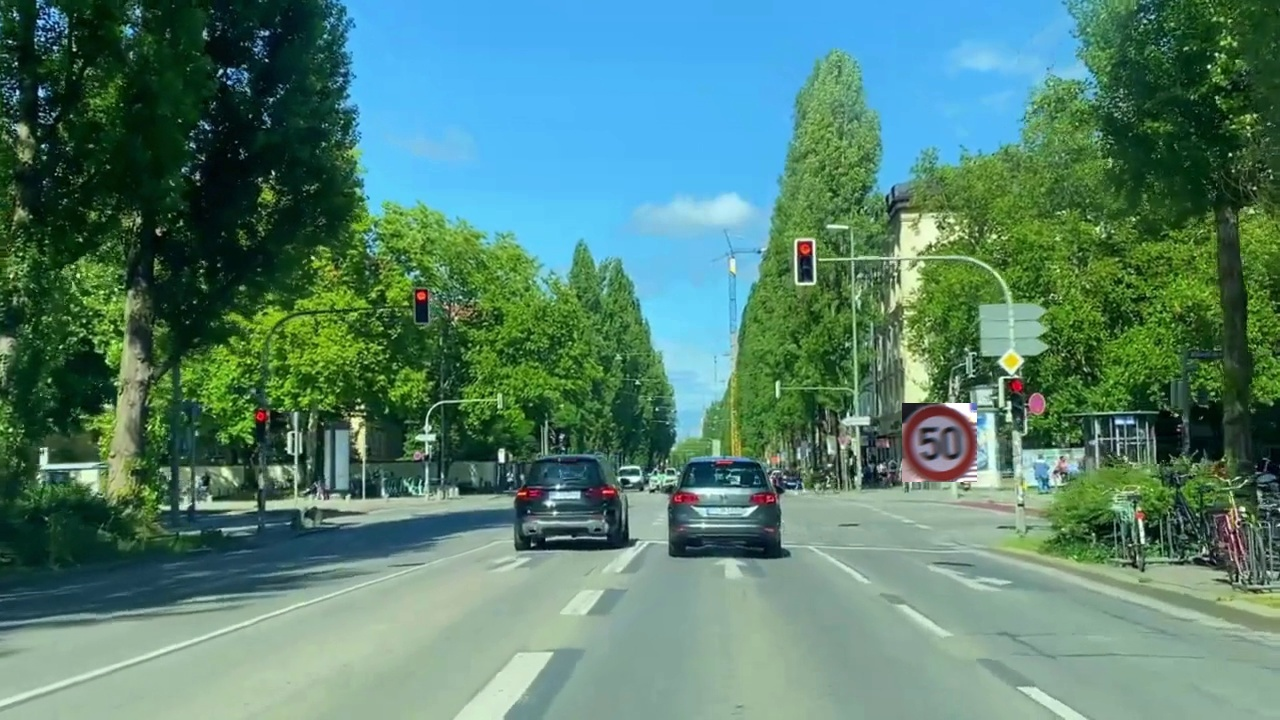Speed 50: (902, 403, 977, 482)
